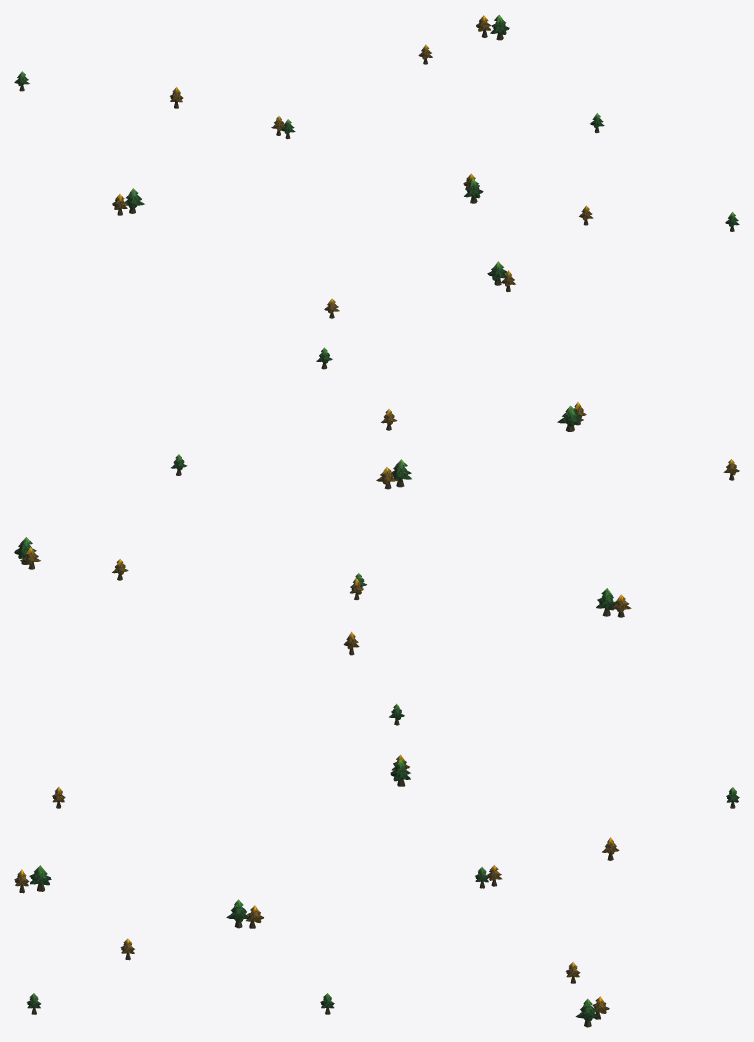
The model's file is tree.FBX.
3 views of the same model, one above another, from view 1: azimuth 30°, elevation 25°; view 2: azimuth 150°, elevation 25°; view 3: azimuth 270°, elevation 25° (orthographic). The views are drawn at different scales.
Visible parts, largest first — view 1: Cylinder140; view 2: Cylinder140; view 3: Cylinder140.
Boxes of the visible parts, bbox=[...] form: Cylinder140: bbox=[14, 14, 739, 318]; Cylinder140: bbox=[14, 347, 739, 725]; Cylinder140: bbox=[14, 754, 739, 1027].
Size of the model in its own units: 3942 by 193 by 4713.
1 material, 1 textured.
